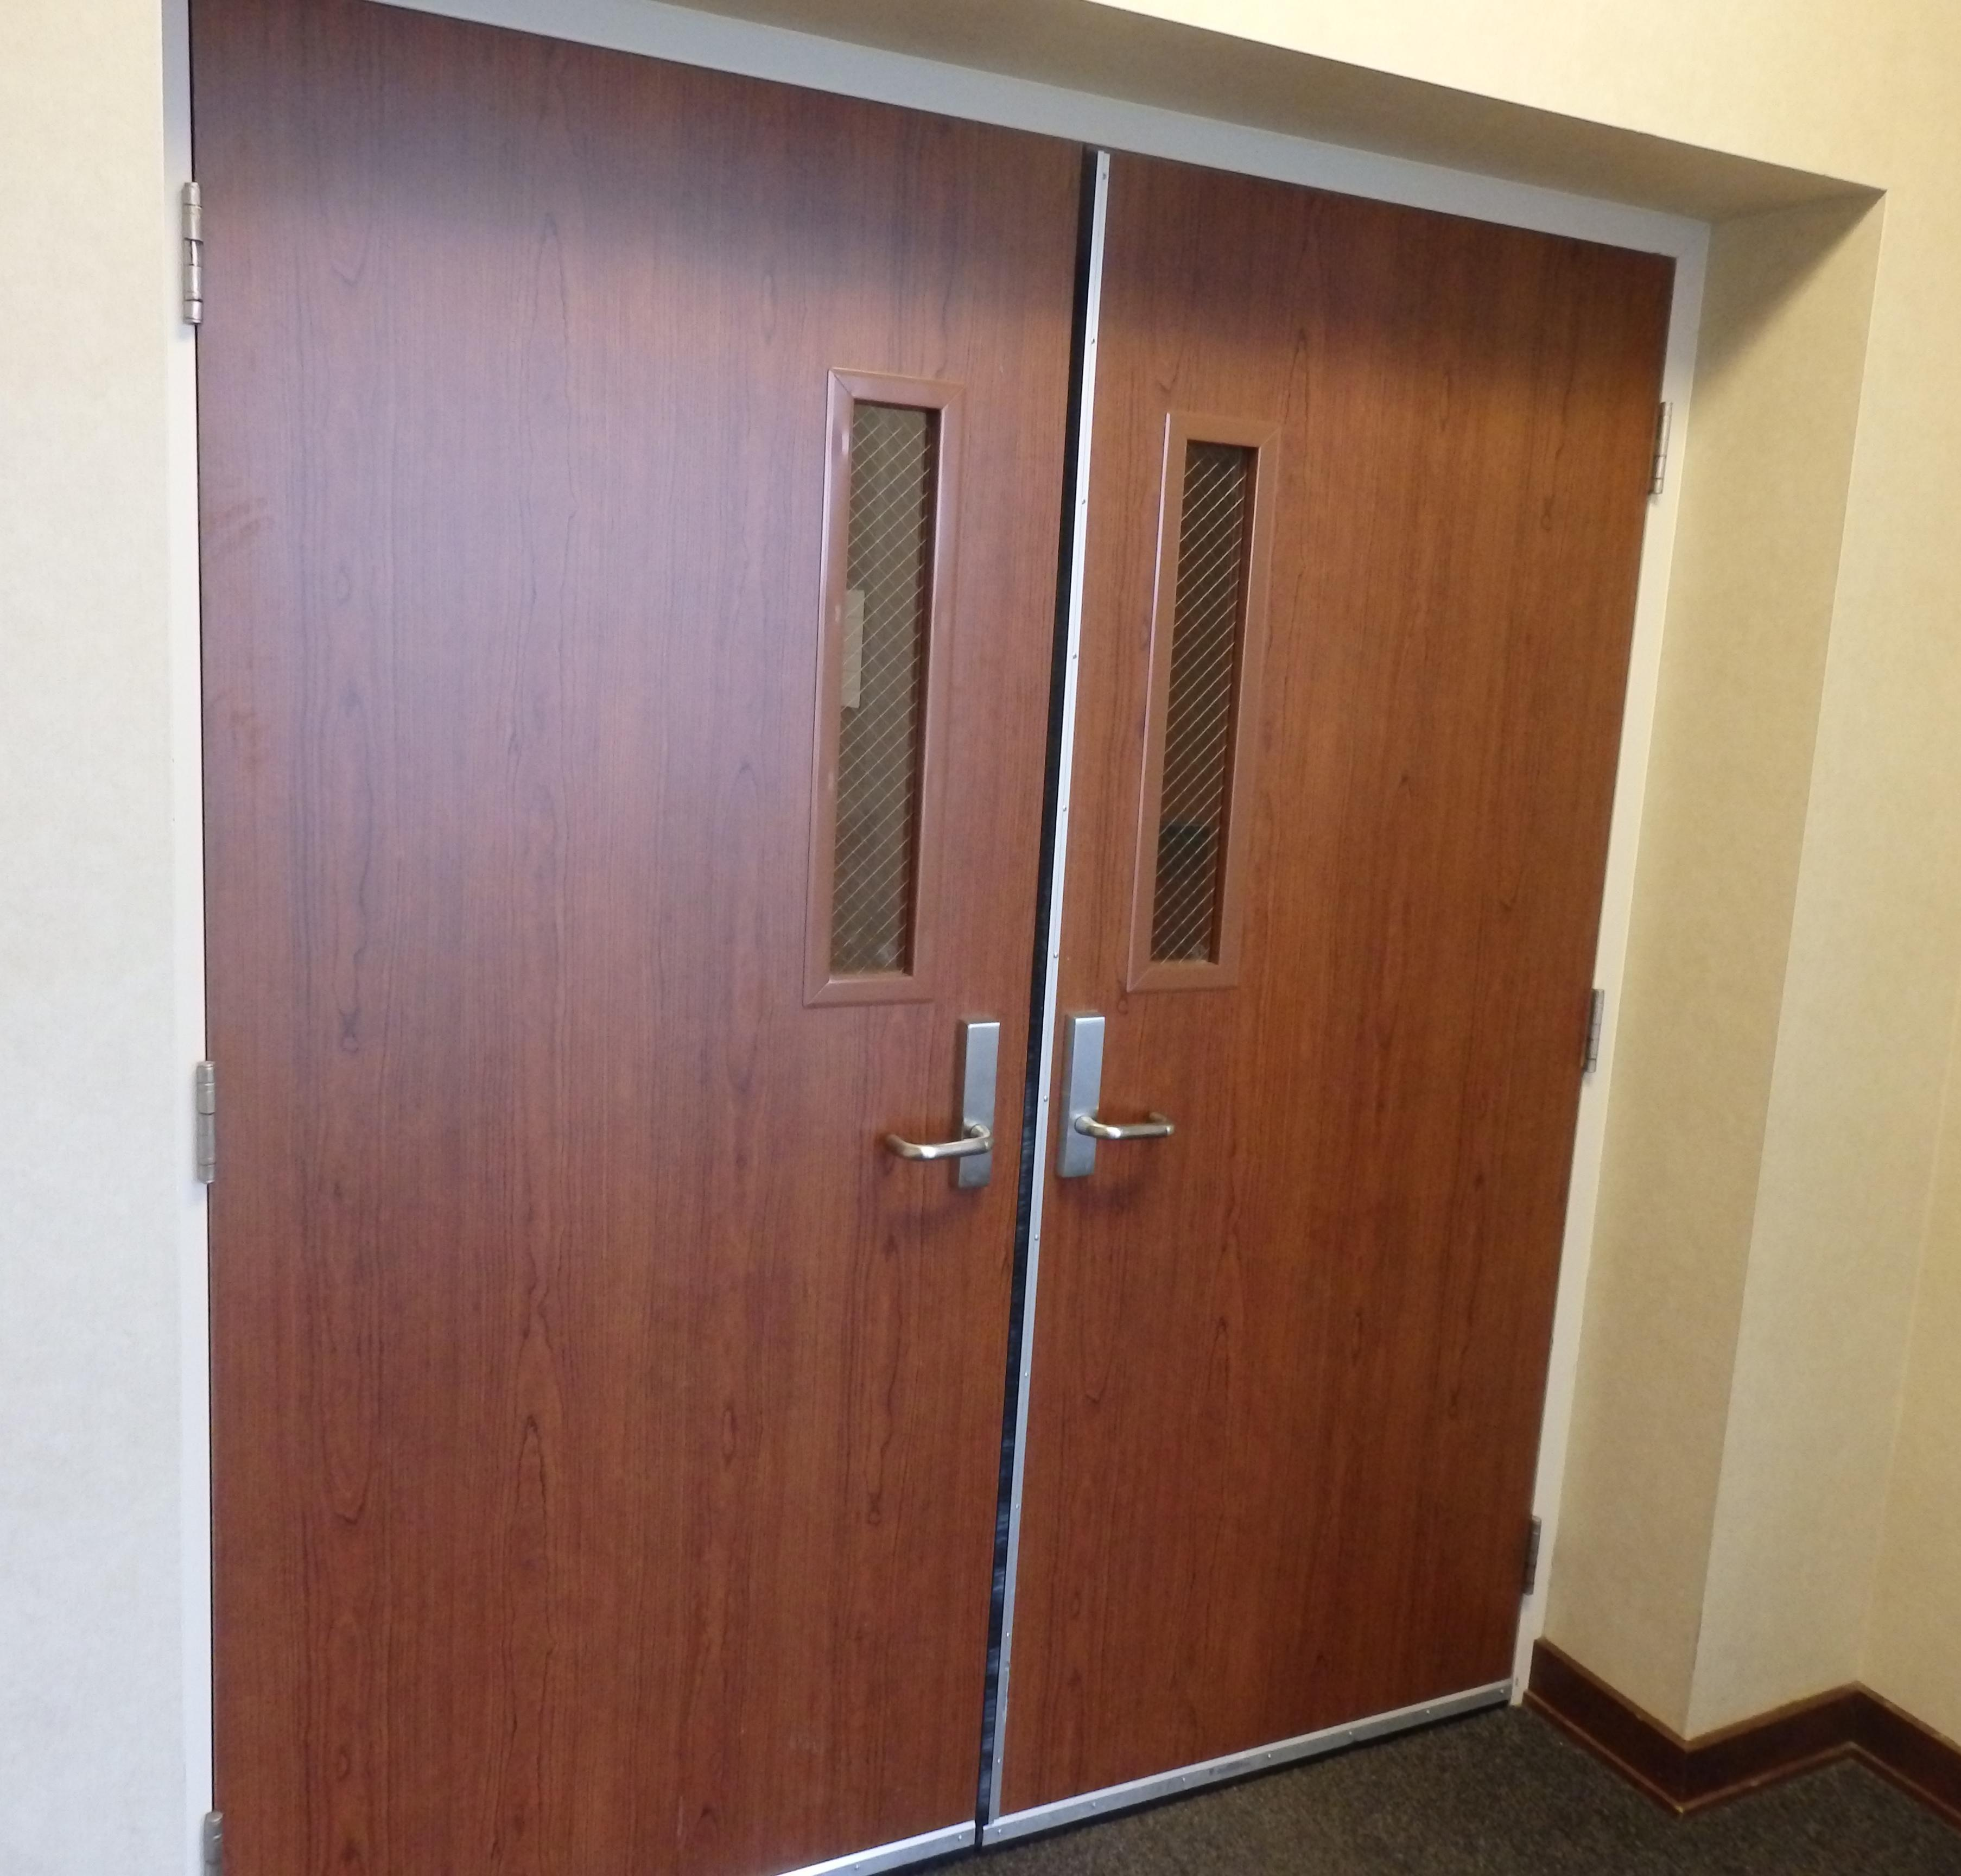door: (168, 4, 1600, 1867)
